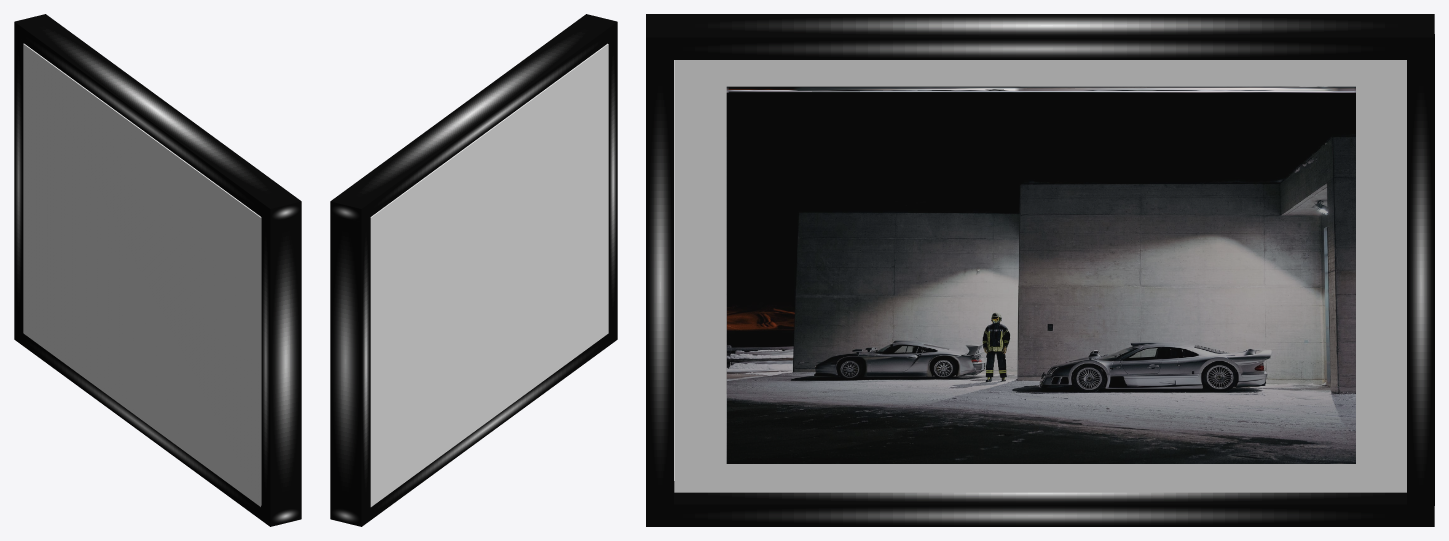
The model's file is frame-image9.glb.
3 views of the same model, side by side, from view 1: azimuth 30°, elevation 25°; view 2: azimuth 150°, elevation 25°; view 3: azimuth 270°, elevation 25° (orthographic). The views are drawn at different scales.
Parts seen in each view (by area): view 1: Cube, Cube (1), Cube (3), Cube (4), Cube (2); view 2: Cube, Cube (1), Cube (2), Cube (4), Cube (3); view 3: image, Cube, Cube (1), Cube (4), Cube (2), Cube (3).
Part boxes in pixels (x1=…): Cube: x1=23, y1=43, x2=261, y2=506; Cube (1): x1=14, y1=14, x2=301, y2=223; Cube (3): x1=261, y1=215, x2=301, y2=513; Cube (4): x1=14, y1=326, x2=301, y2=526; Cube (2): x1=14, y1=35, x2=23, y2=331; Cube: x1=370, y1=43, x2=608, y2=506; Cube (1): x1=330, y1=14, x2=617, y2=221; Cube (2): x1=330, y1=214, x2=370, y2=513; Cube (4): x1=330, y1=326, x2=617, y2=526; Cube (3): x1=608, y1=35, x2=617, y2=331; image: x1=726, y1=86, x2=1355, y2=463; Cube: x1=674, y1=60, x2=1406, y2=492; Cube (1): x1=646, y1=14, x2=1434, y2=59; Cube (4): x1=646, y1=481, x2=1434, y2=526; Cube (2): x1=1407, y1=34, x2=1434, y2=505; Cube (3): x1=646, y1=60, x2=673, y2=504.
Size of the model in its own units: 20.01 by 193 by 282.
Materials: 3 (2 with a texture image).
